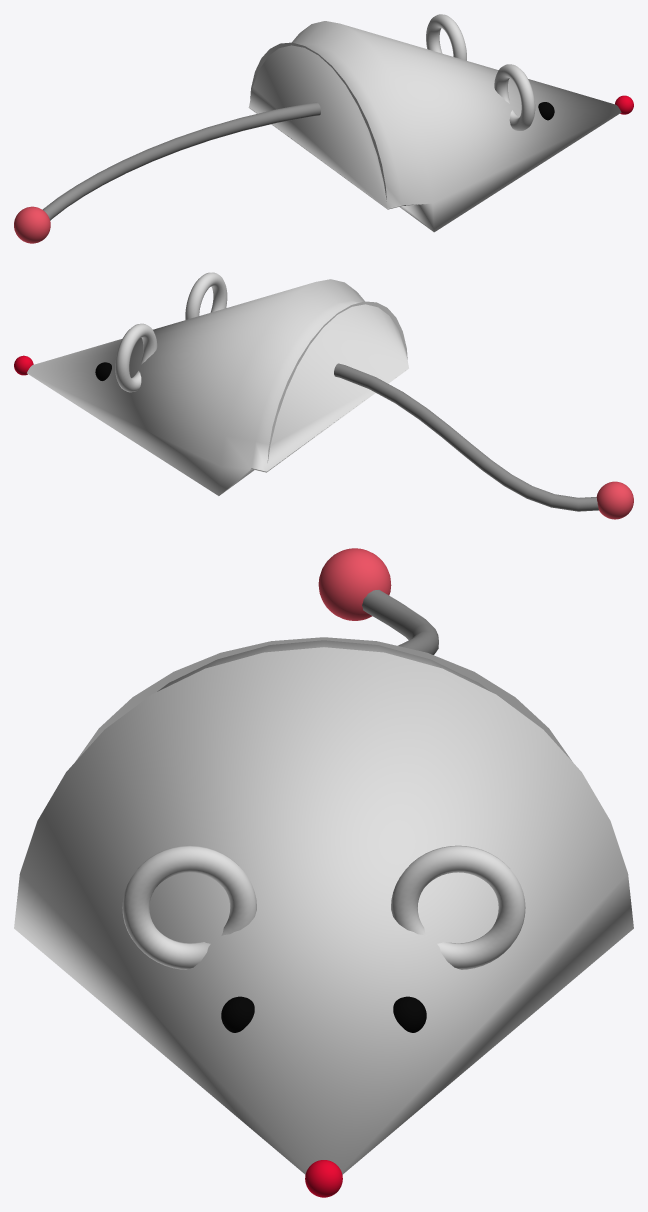
Rendered from myska_to_unity.fbx.
3 renders of one model, top to bottom at view 1: azimuth 30°, elevation 25°; view 2: azimuth 150°, elevation 25°; view 3: azimuth 270°, elevation 25°, orthographic. The views are drawn at different scales.
Visible parts, largest first — view 1: Cone, BezierCurve, Torus, Torus.001, Sphere.003, Circle; view 2: Cone, BezierCurve, Torus.001, Torus, Sphere.003, Circle; view 3: Cone, Torus, Torus.001, Sphere.003, Circle, BezierCurve, Sphere.002, Sphere, Sphere.001.
Part boxes in pixels (bbox=[...]): Cone: bbox=[248, 21, 621, 232]; BezierCurve: bbox=[42, 102, 320, 220]; Torus: bbox=[494, 64, 535, 130]; Torus.001: bbox=[426, 14, 466, 60]; Sphere.003: bbox=[14, 206, 50, 243]; Circle: bbox=[250, 42, 386, 201]; Cone: bbox=[27, 279, 408, 495]; BezierCurve: bbox=[334, 363, 598, 511]; Torus.001: bbox=[115, 323, 157, 392]; Torus: bbox=[185, 272, 227, 319]; Sphere.003: bbox=[596, 481, 633, 519]; Circle: bbox=[267, 301, 407, 462]; Cone: bbox=[14, 640, 633, 1174]; Torus: bbox=[122, 845, 256, 969]; Torus.001: bbox=[391, 845, 525, 969]; Sphere.003: bbox=[318, 548, 391, 620]; Circle: bbox=[76, 637, 571, 760]; BezierCurve: bbox=[362, 590, 438, 654]; Sphere.002: bbox=[305, 1160, 342, 1197]; Sphere: bbox=[221, 996, 254, 1032]; Sphere.001: bbox=[393, 996, 426, 1032].
Size of the model in its own units: 412 by 95.45 by 185.
